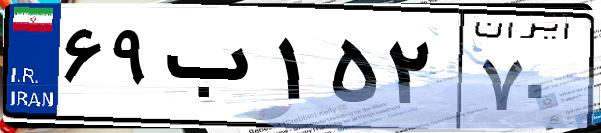0: (525, 38, 570, 115)
1: (270, 28, 330, 110)
2: (385, 28, 445, 110)
5: (330, 28, 385, 110)
6: (57, 26, 110, 100)
7: (475, 38, 525, 113)
9: (110, 28, 158, 98)
ب: (158, 20, 270, 120)
